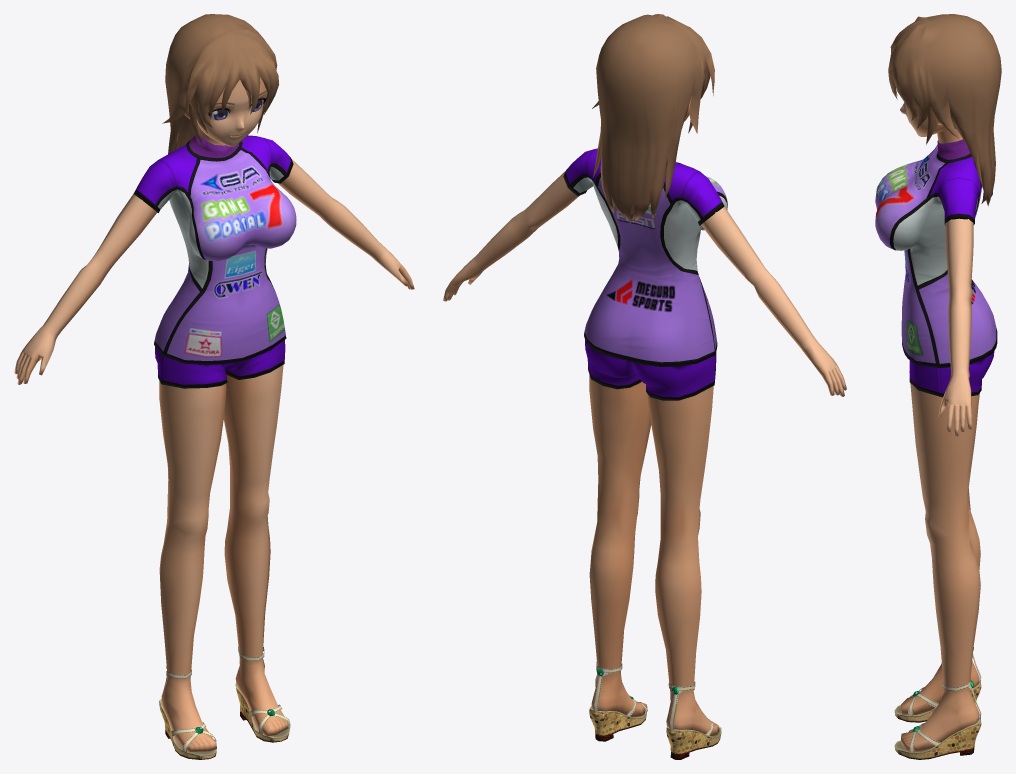
3 renders of one model, left to right at view 1: azimuth 30°, elevation 25°; view 2: azimuth 150°, elevation 25°; view 3: azimuth 270°, elevation 25°, orthographic.
Parts seen in each view (by area): view 1: Body_002, Face_002, Shoes_001; view 2: Body_002, Face_002, Shoes_001; view 3: Body_002, Face_002, Shoes_001.
Part boxes in pixels (bbox=[...]): Body_002: bbox=[14, 124, 414, 751]; Face_002: bbox=[162, 14, 279, 153]; Shoes_001: bbox=[159, 647, 290, 759]; Body_002: bbox=[443, 148, 846, 736]; Face_002: bbox=[592, 14, 714, 223]; Shoes_001: bbox=[589, 661, 721, 759]; Body_002: bbox=[875, 129, 997, 751]; Face_002: bbox=[888, 14, 1001, 206]; Shoes_001: bbox=[894, 647, 981, 759].
Size of the model in its own units: 95.07 by 164 by 26.38.
